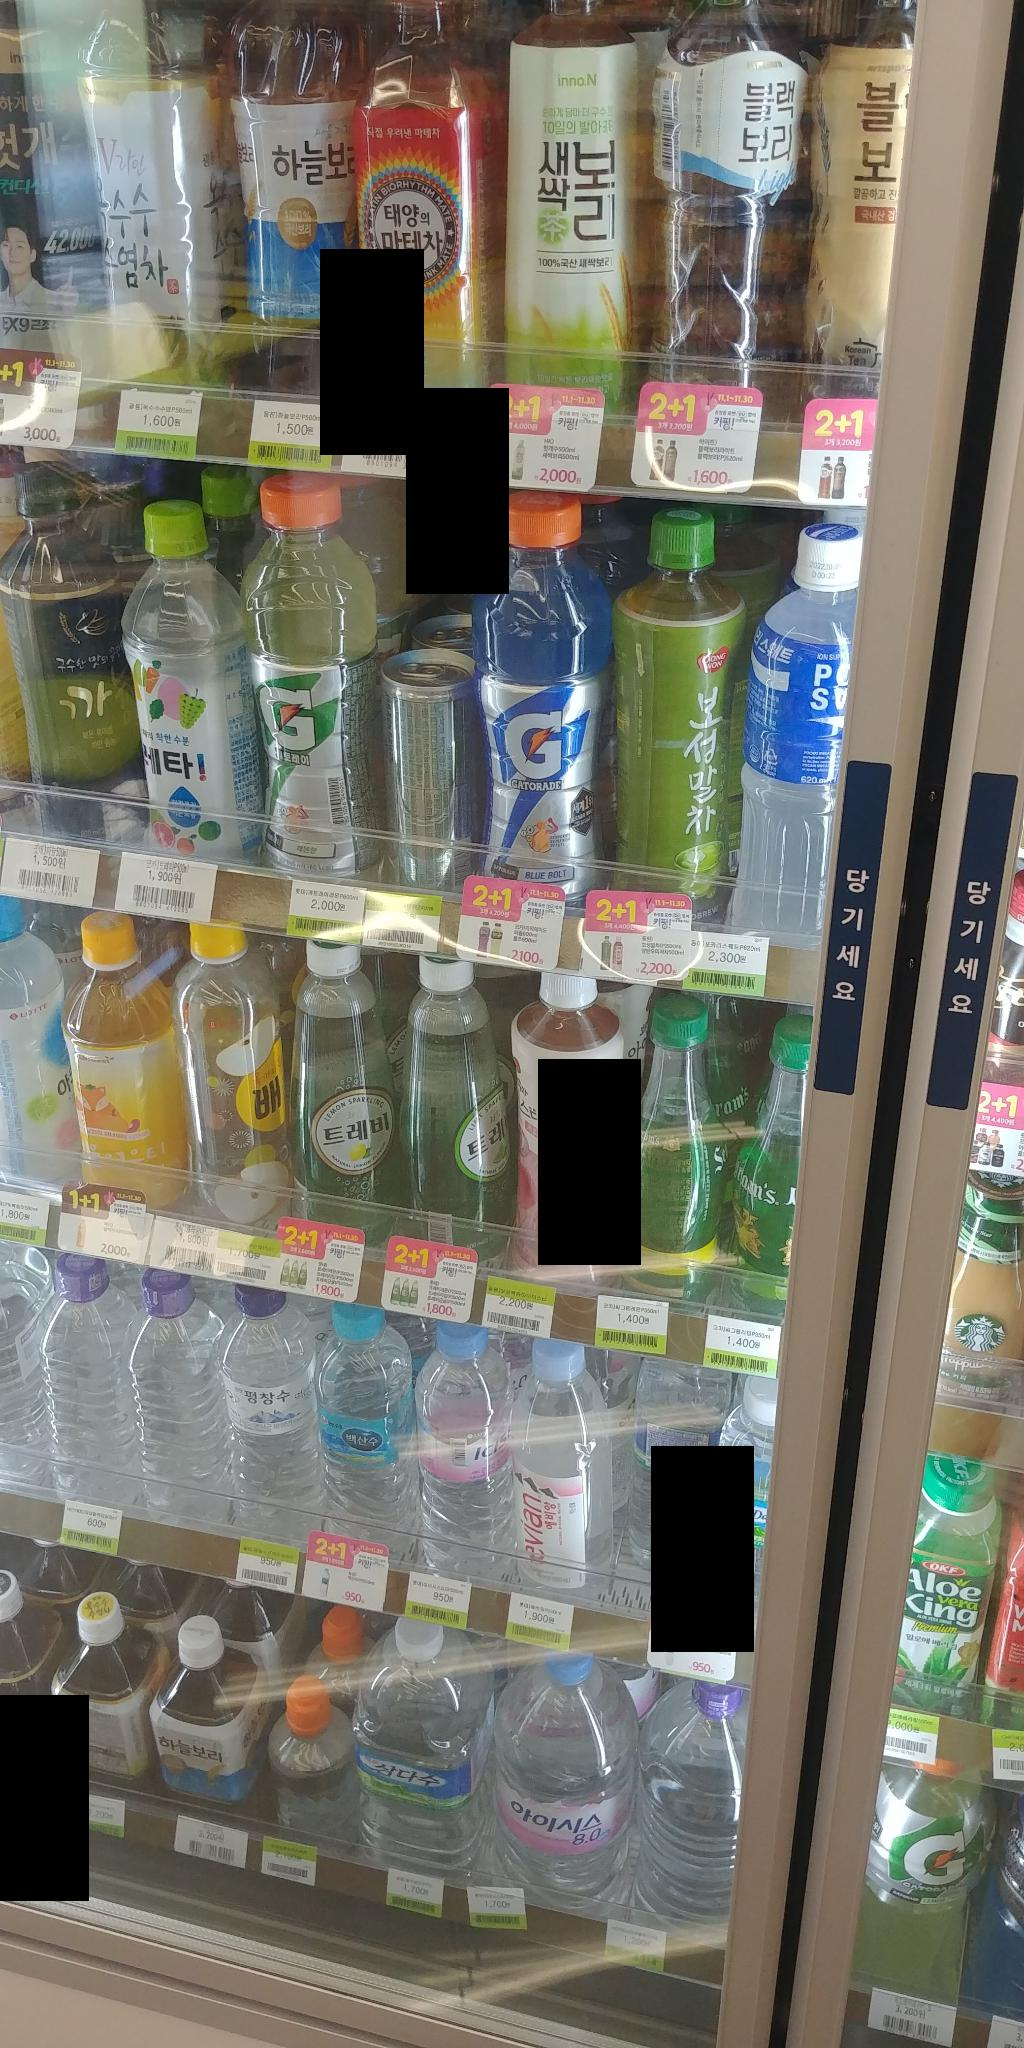gatorade_lemon: (244, 452, 393, 900)
haneulbori: (202, 0, 392, 406)
oksususuyeomcha: (63, 0, 273, 388)
pocarisweat: (738, 509, 866, 943)
toreta: (116, 479, 270, 861)
